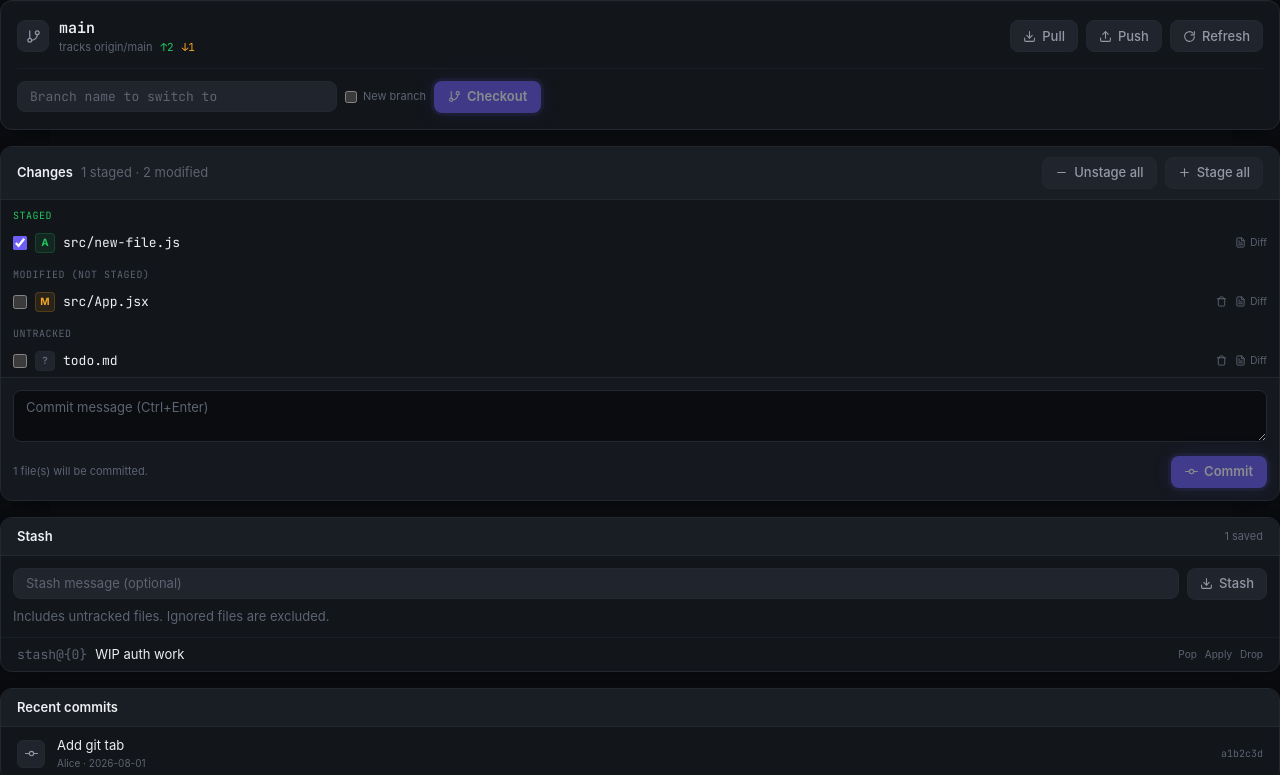
Scenario: GitTab › serializes Ctrl+Enter commits until the post-operation refresh finishes
Step 1. Type "once" into the text box labelled "Commit message" → x=640, y=416, box [13,390,1267,442]
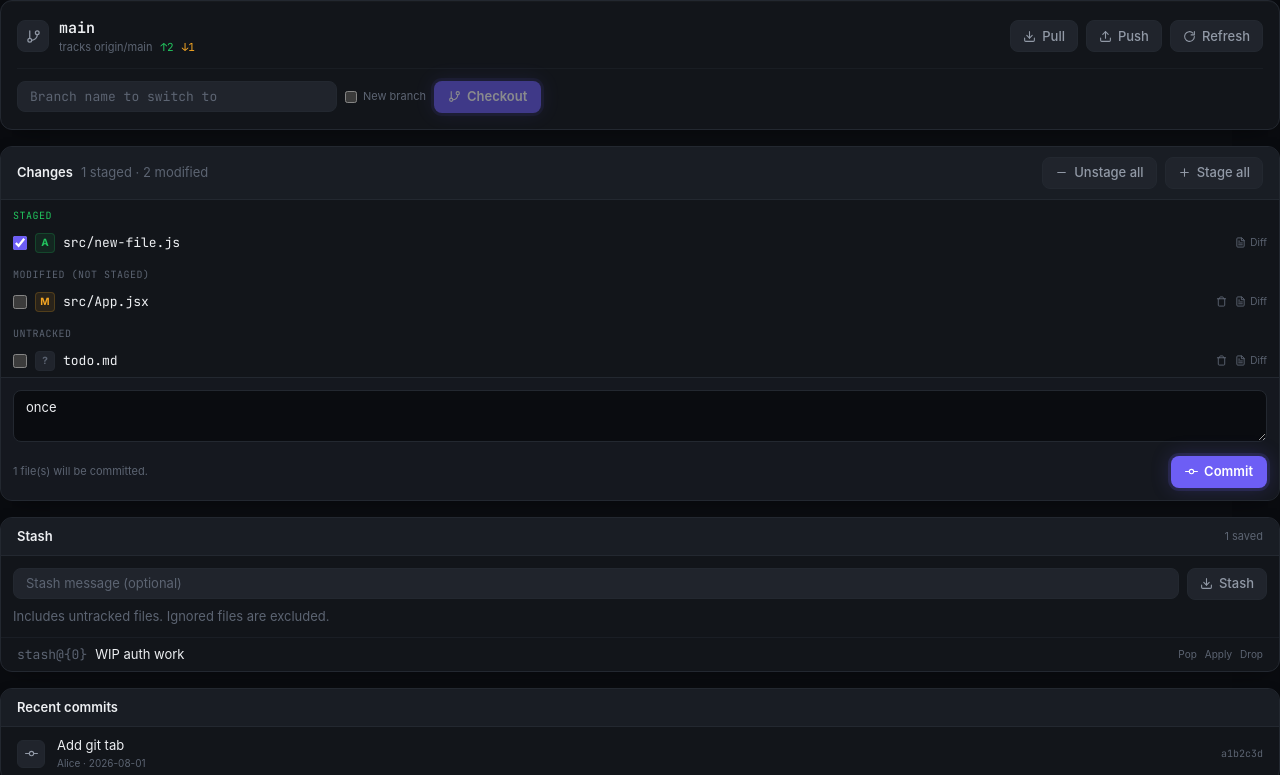
Step 2. Press Enter in the text box named "Commit message", box [13,390,1267,442]
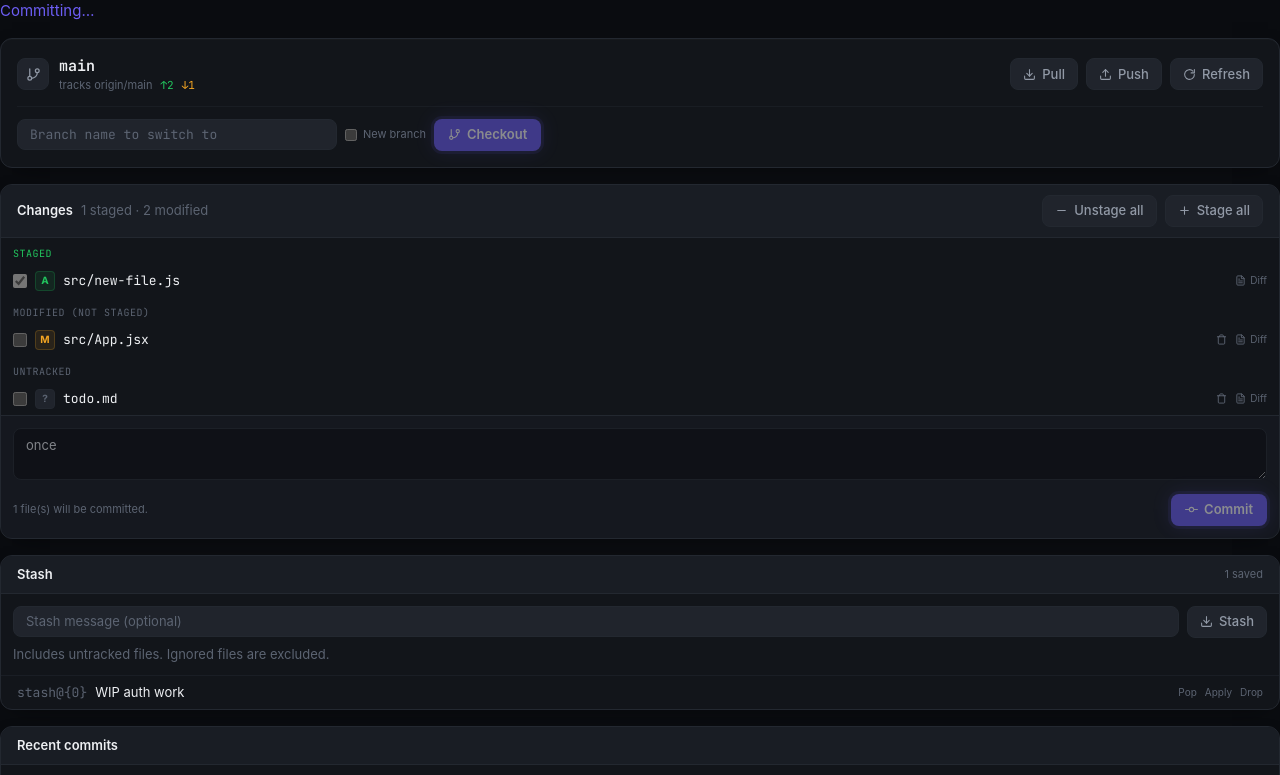
Step 3. Press Enter in the text box named "Commit message", box [13,428,1267,480]
Step 4. Press Enter in the text box named "Commit message", box [13,428,1267,480]
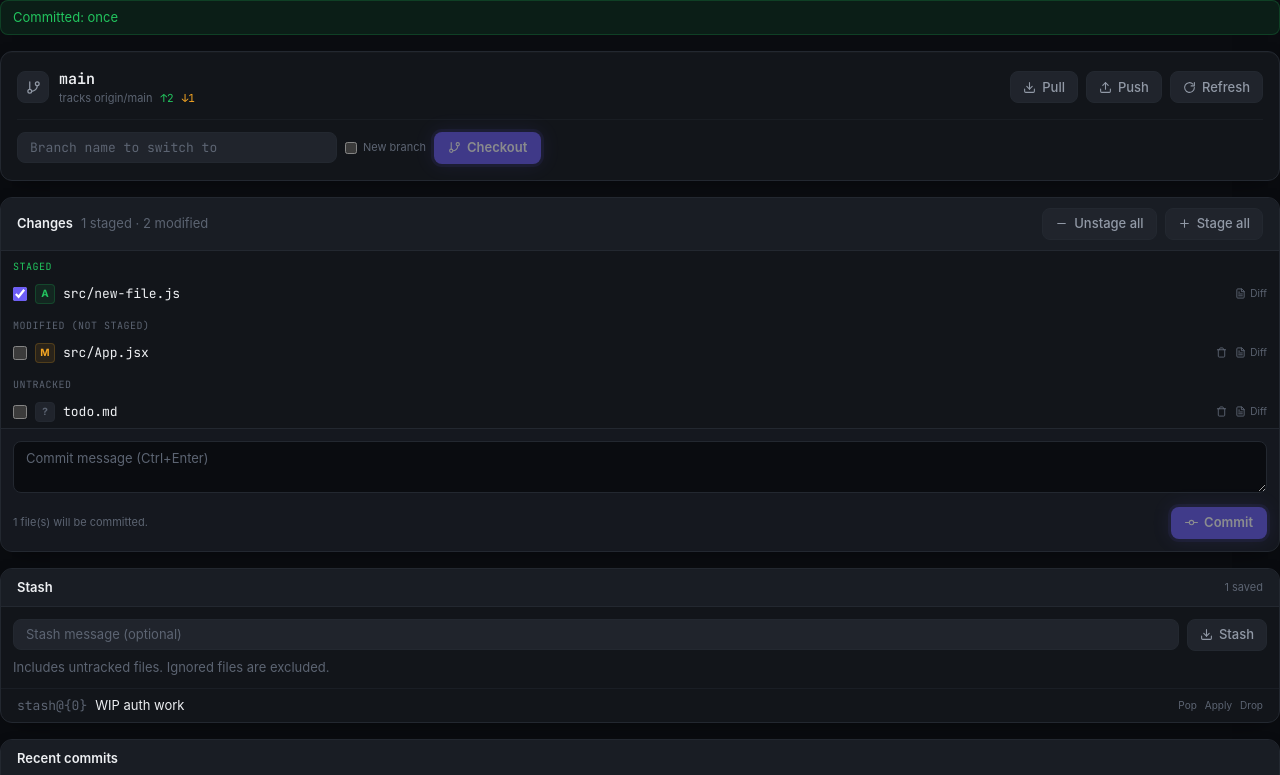
Now the text "Committed: once" is shown, box [0,0,1279,35]
